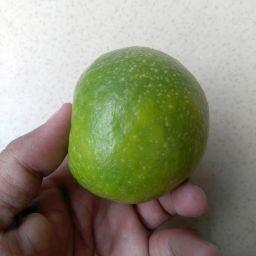Unripe: (65, 45, 209, 206)
